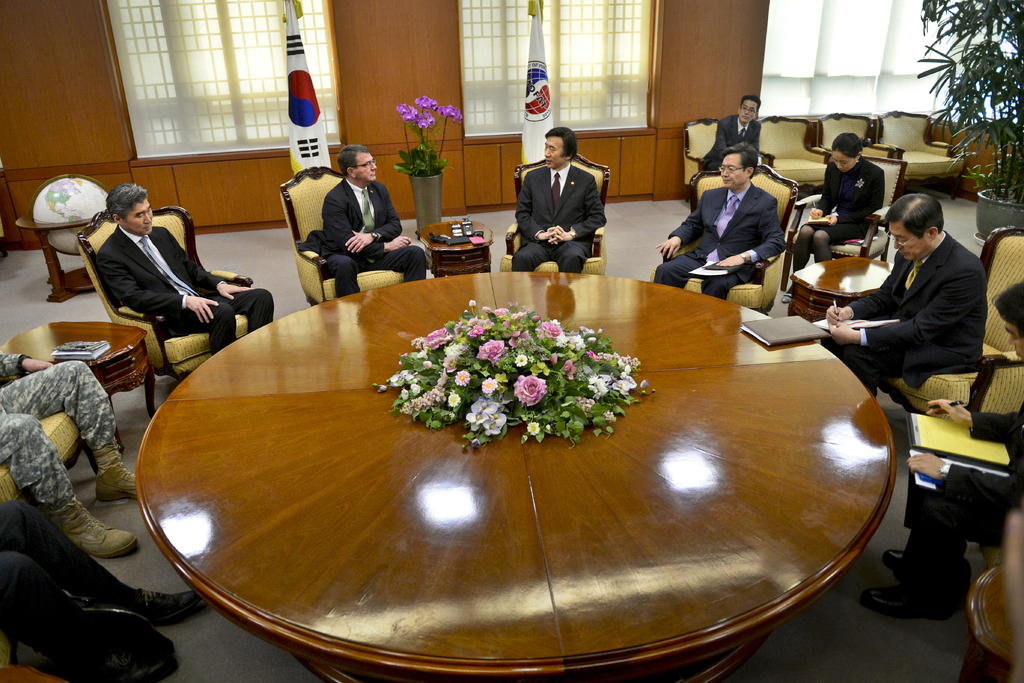Table: (115, 250, 966, 668), (0, 320, 147, 417), (791, 257, 892, 331)
